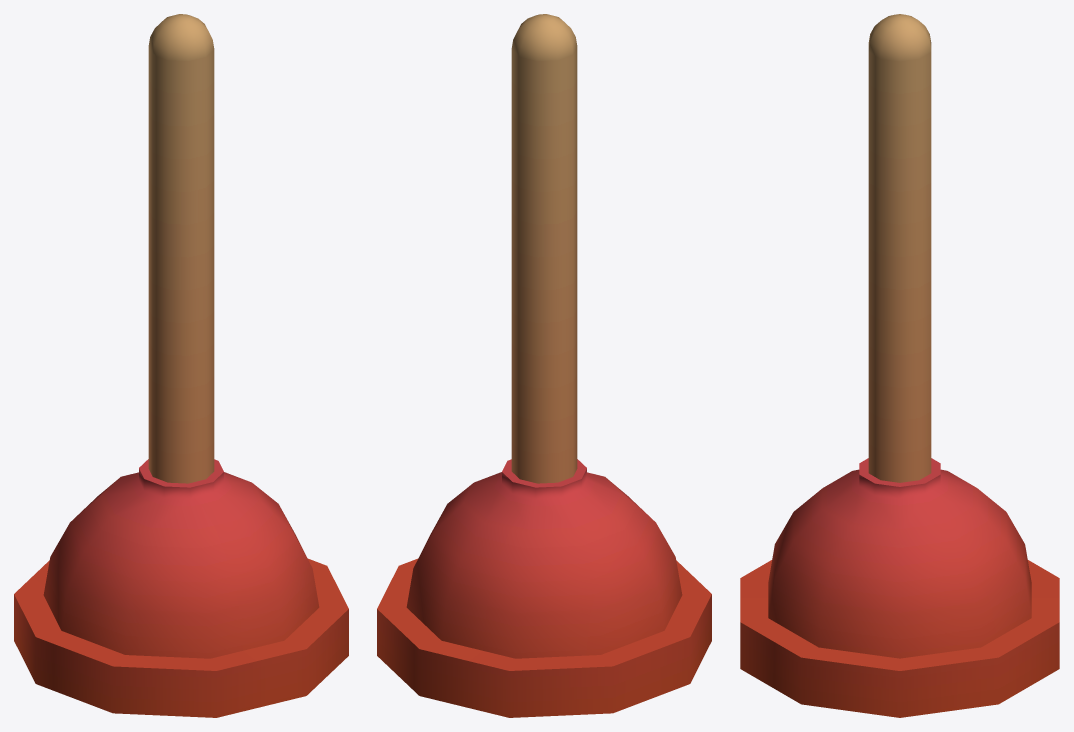
Rendered from Plunger.obj.
3 views of the same model, side by side, from view 1: azimuth 30°, elevation 25°; view 2: azimuth 150°, elevation 25°; view 3: azimuth 270°, elevation 25° (orthographic).
Parts seen in each view (by area): view 1: Handle1; view 2: Handle1; view 3: Handle1.
Part boxes in pixels (x1,y1,x2,y2): Handle1: (14, 14, 348, 717); Handle1: (377, 14, 711, 717); Handle1: (740, 14, 1059, 717).
Bounding box in the file's own units: 0.9714 × 2.01 × 0.9239.
1 material, 1 textured.
